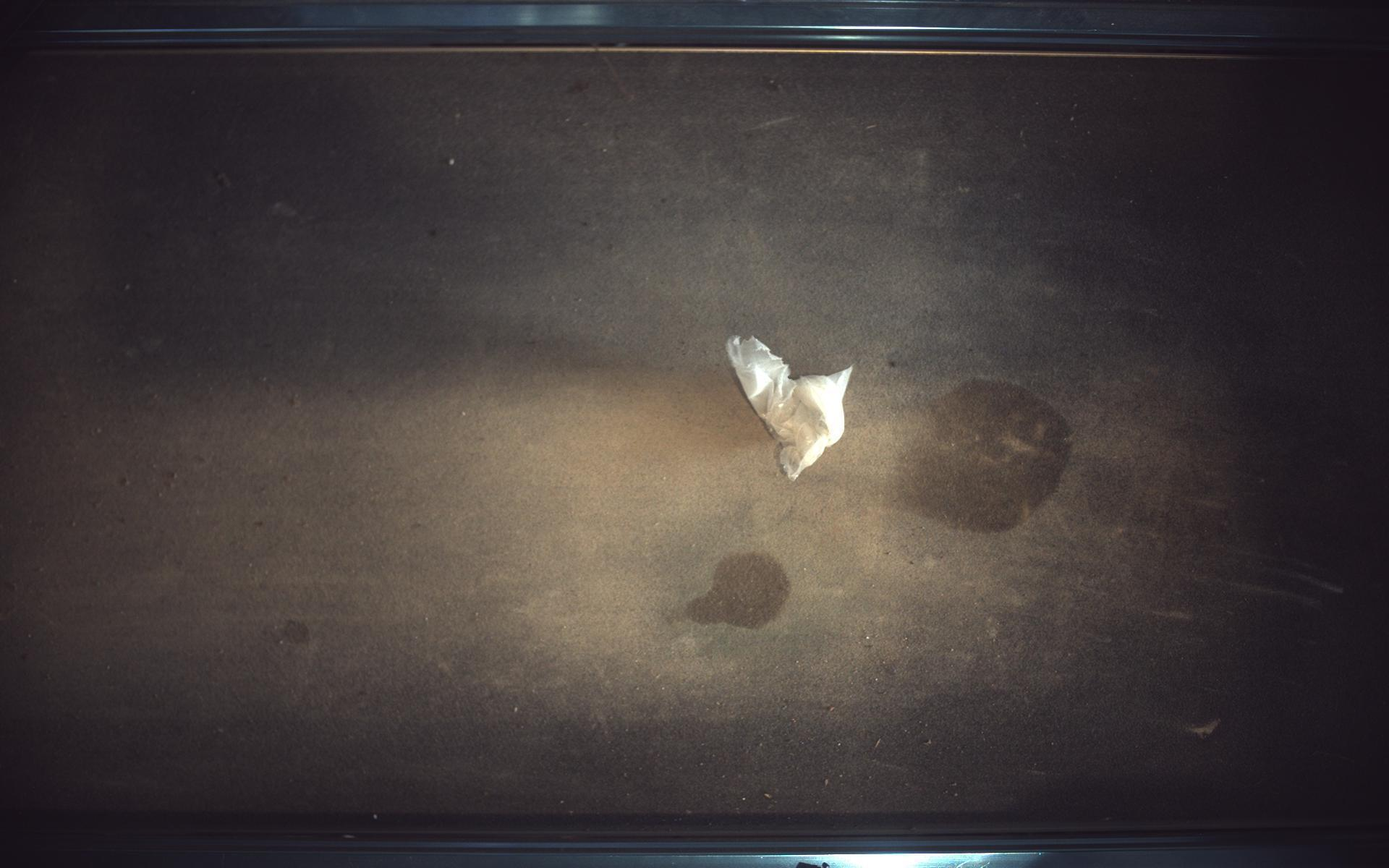general_w: (727, 336, 854, 480)
